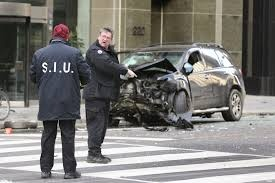Smashed: (116, 64, 179, 125)
